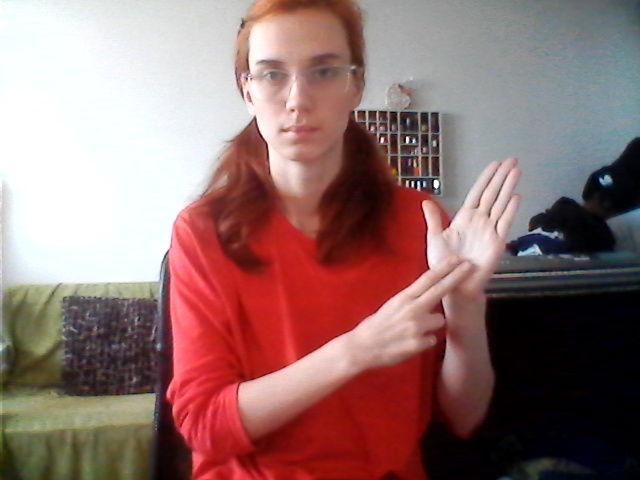n: (391, 156, 526, 368)
